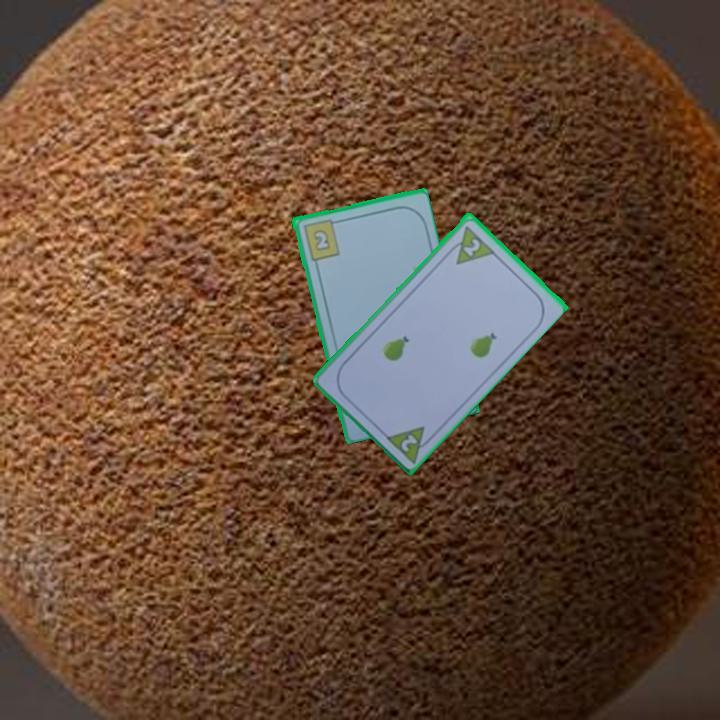2b: (299, 215, 342, 263)
2p: (381, 422, 438, 466), (443, 221, 496, 267)
